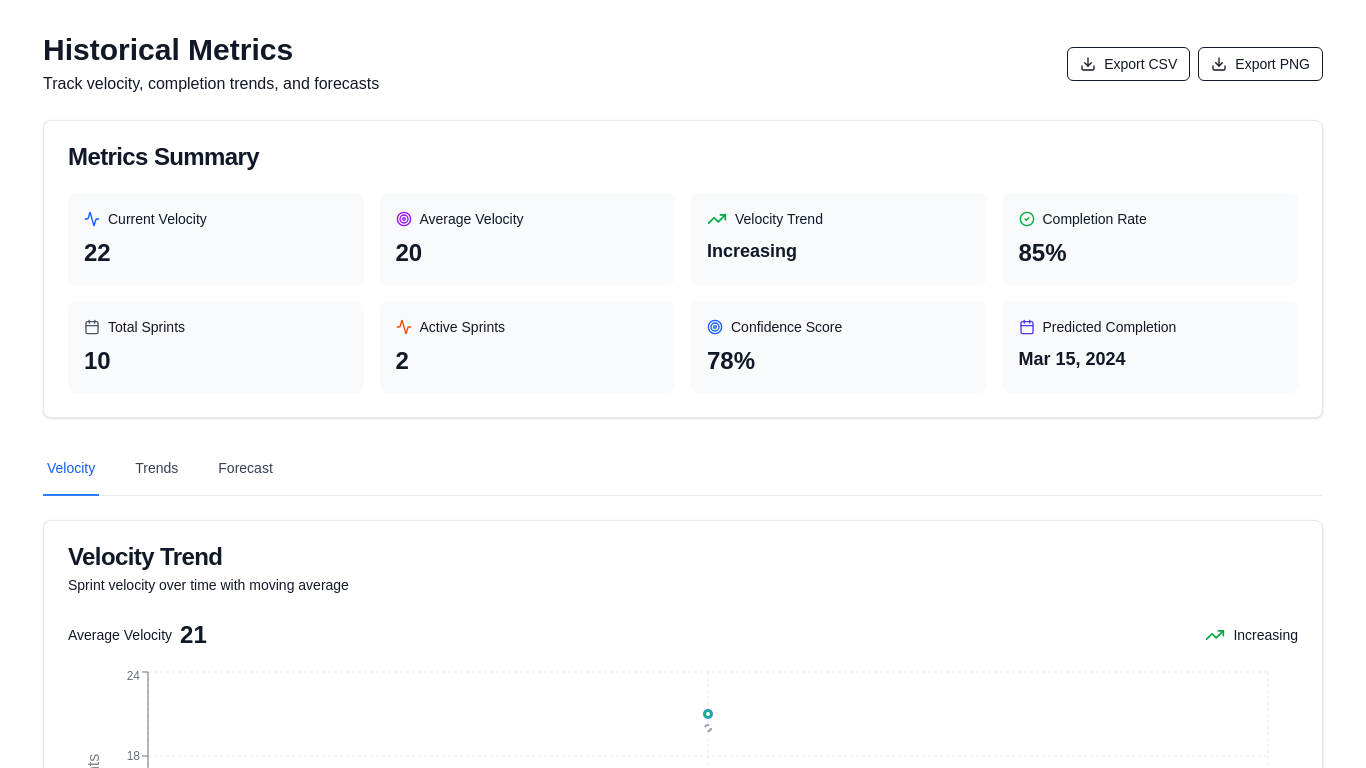
it: MetricsPage Component › displays forecast chart in forecast tab
What coordinates should you click on to do the following:
click the tab "Forecast"
I would click on:
 (246, 469)
Its box is top-left (214, 442), bottom-right (277, 496).
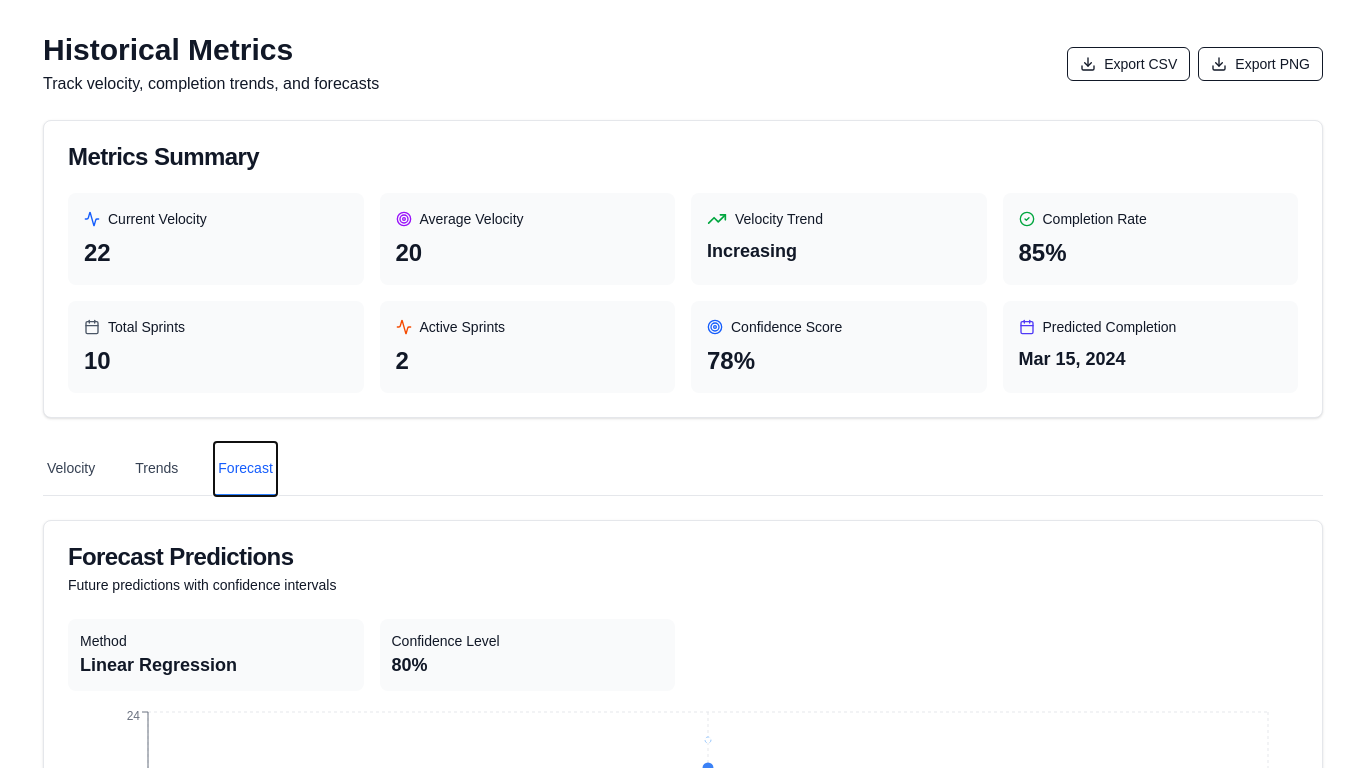
Check: the text "Forecast Predictions" is shown, box top-left (68, 543), bottom-right (293, 570)
